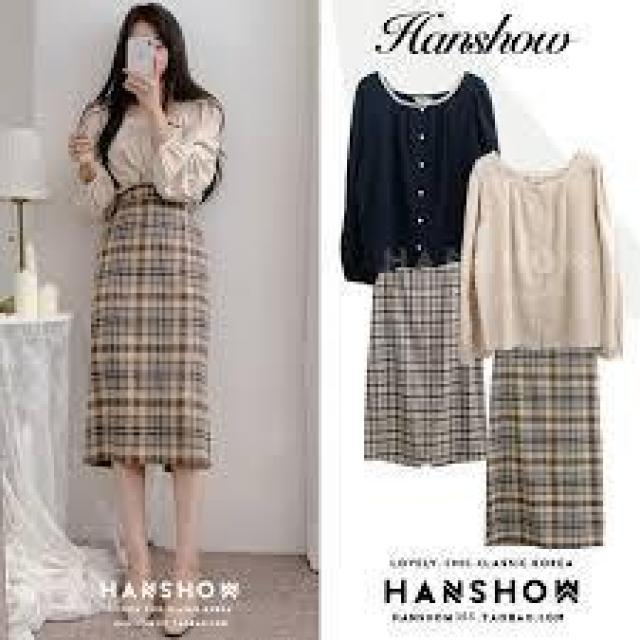Tshirt: (70, 98, 243, 215)
skirt: (80, 189, 233, 488)
